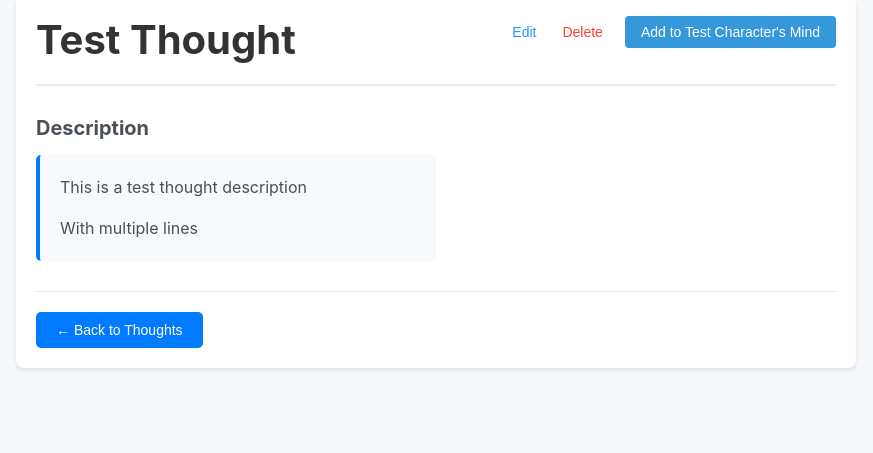
Test: ThoughtView Component › Add to Character Mind › adds thought to character mind successfully
Expected: the heading "Test Thought" is shown, [36, 16, 296, 64]
Click the button "Add to Test Character's Mind": (730, 32) [625, 16, 836, 48]
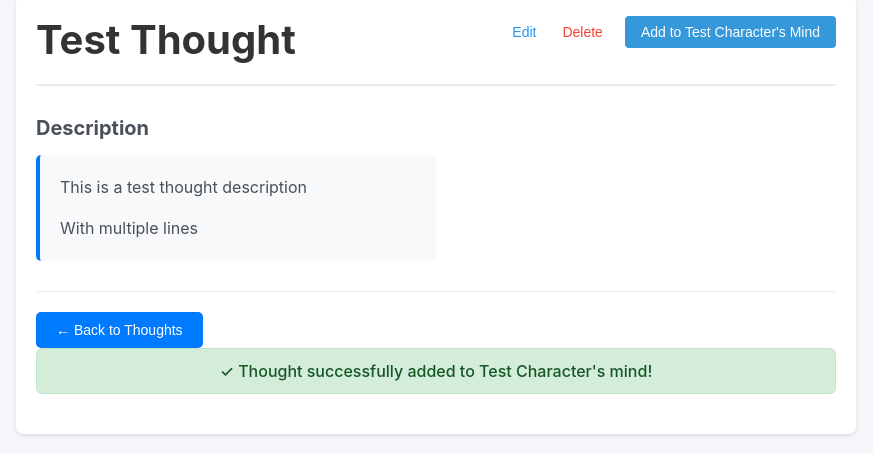
Now the text "✓ Thought successfully added to Test Character's mind!" is shown, box [36, 348, 836, 394]
